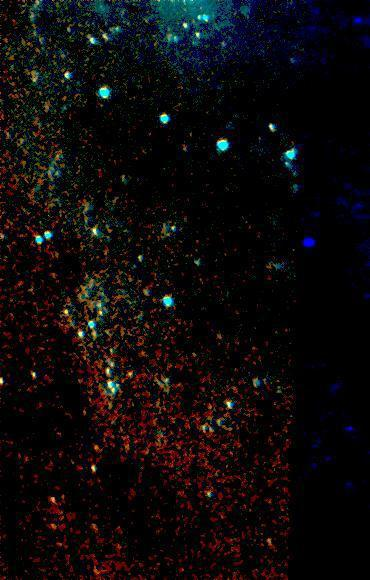star: (84, 430, 114, 460)
